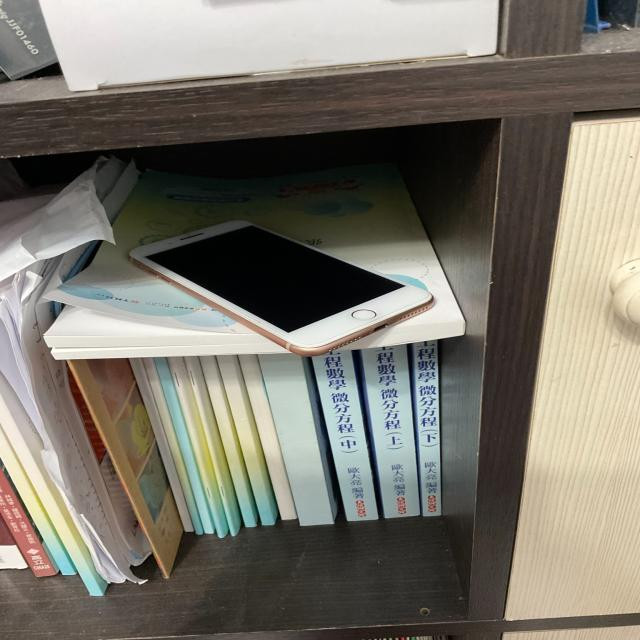Smartphone: (124, 203, 455, 373)
